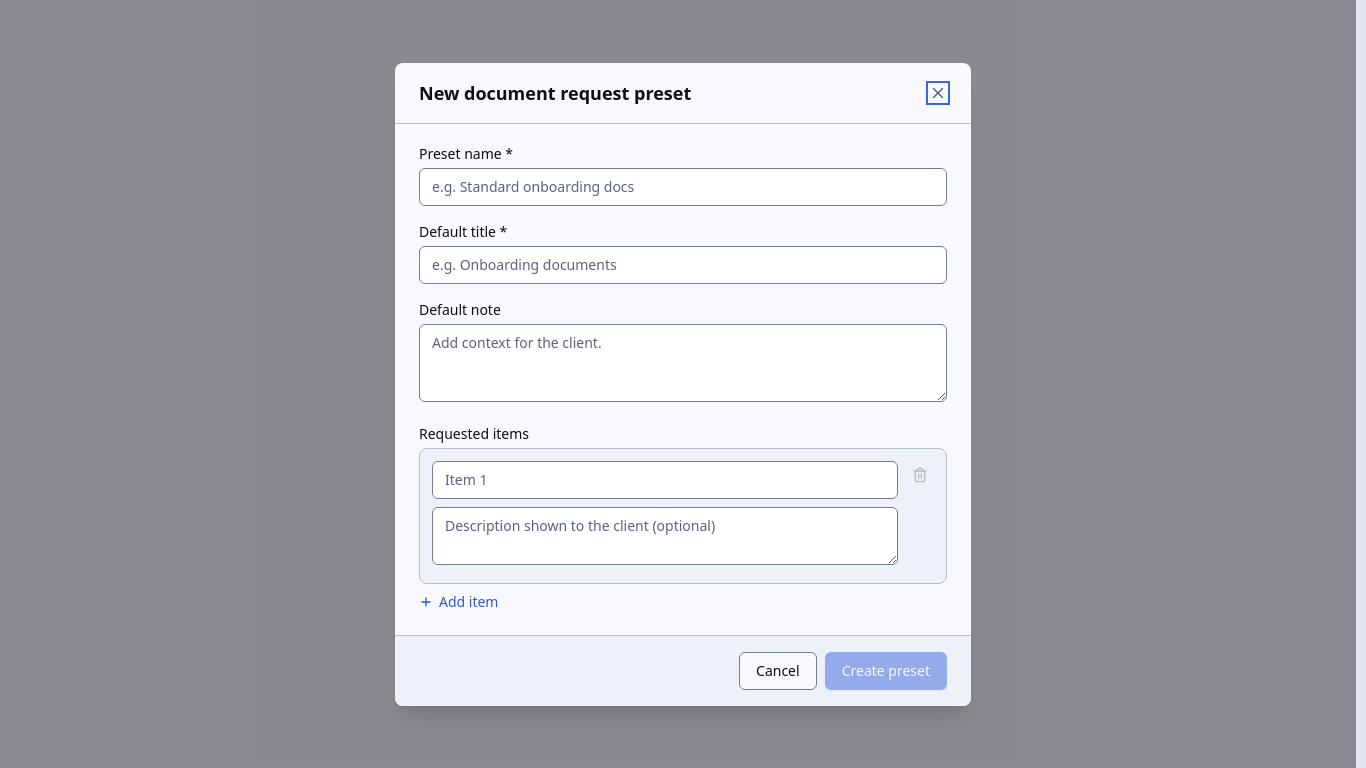
Test: lets the user dismiss the error from a refused save
The image size is (1366, 768).
In the field labelled "Preset name *": (683, 186) [419,168,947,206], type "Onboarding"
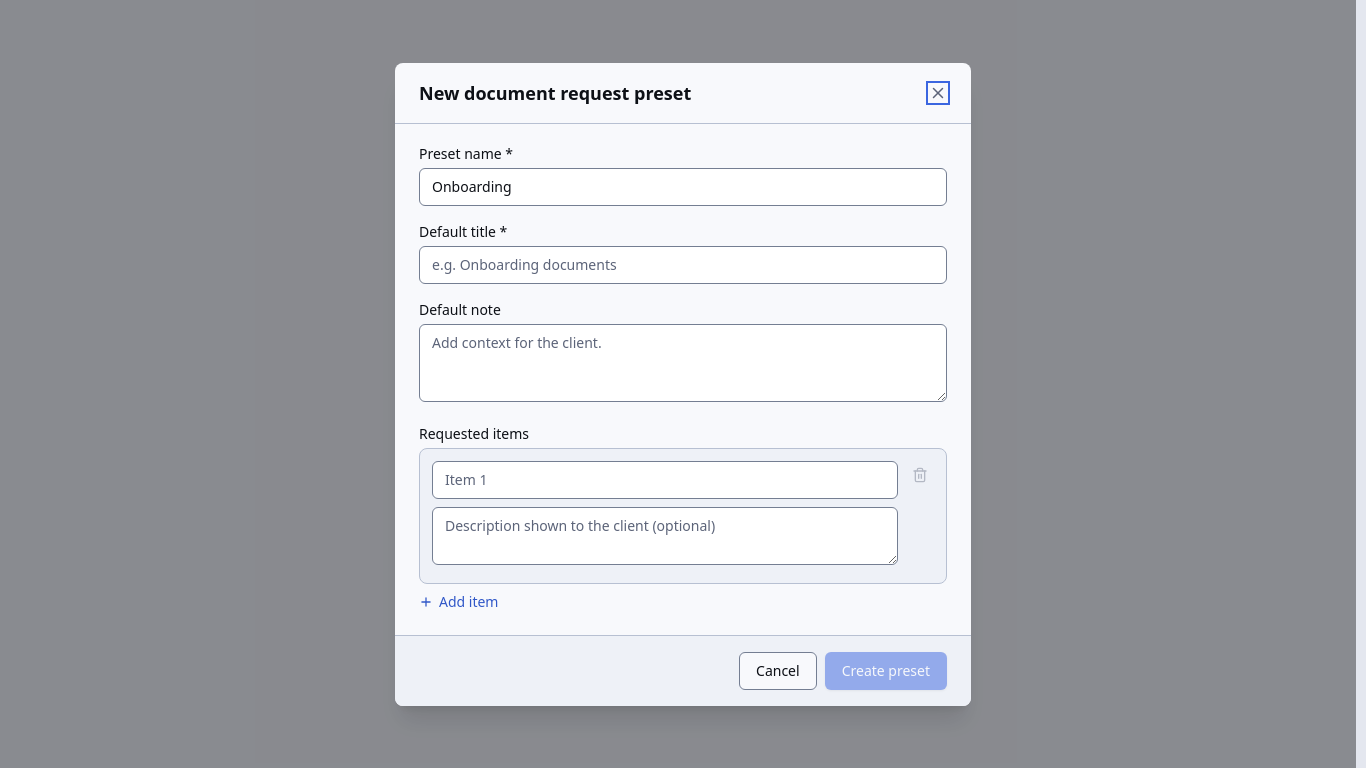
In the field labelled "Default title *": (683, 264) [419,246,947,284], type "Onboarding documents"
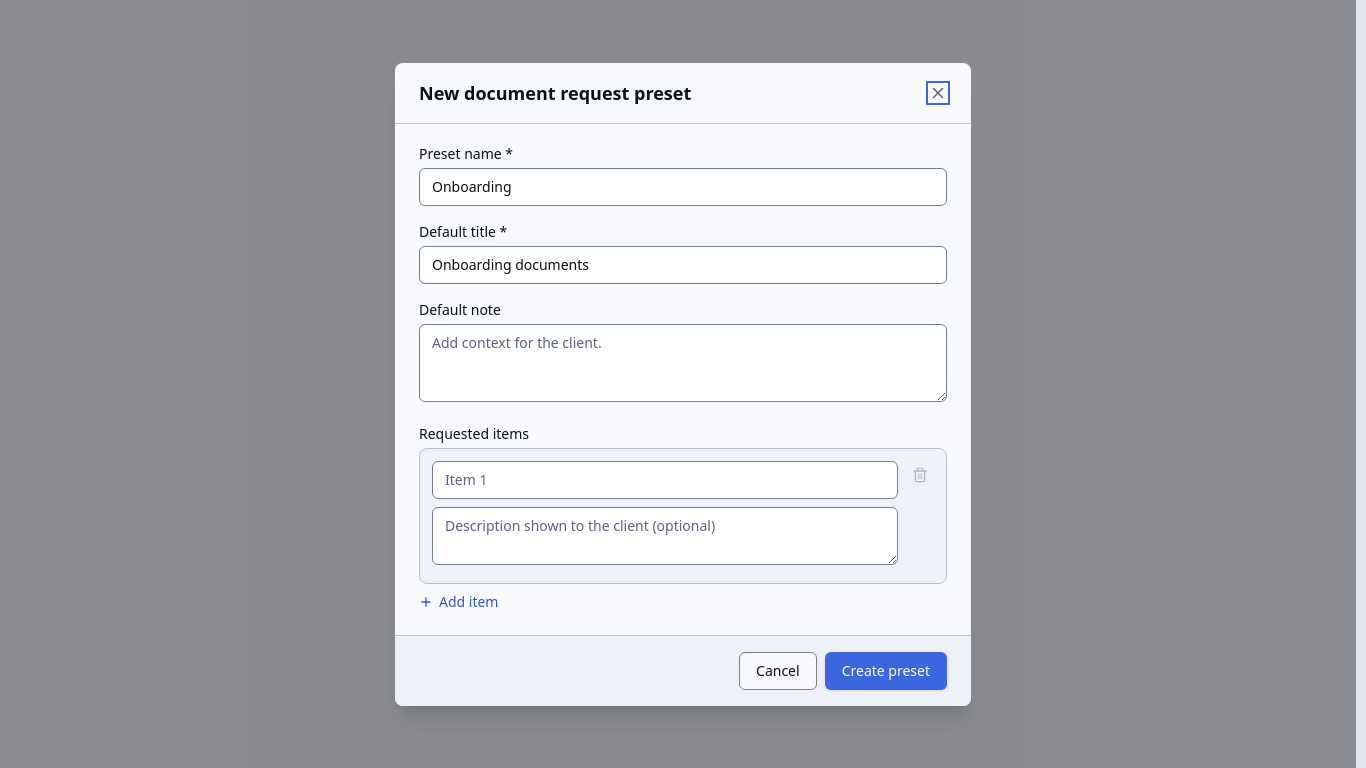
Click the button "Create preset": (886, 670) [825,652,947,690]
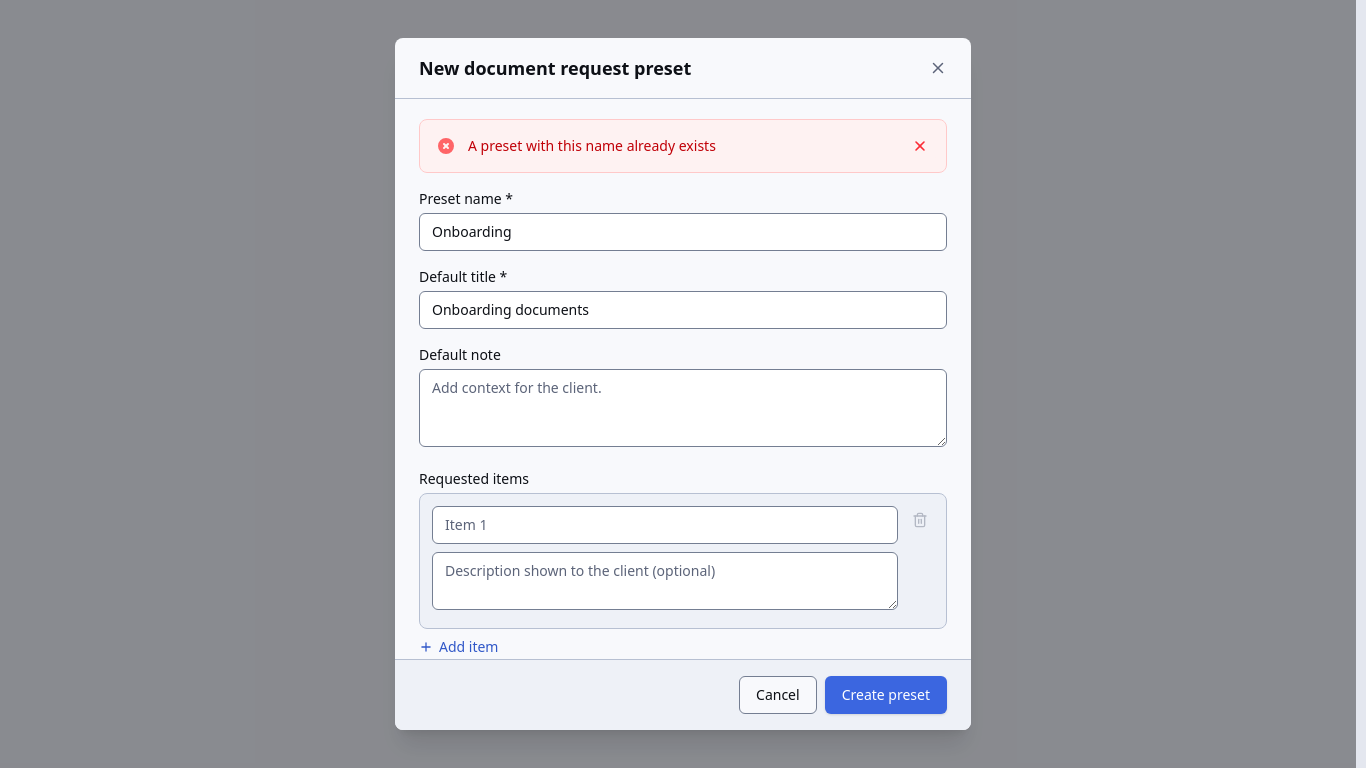
Expected: the message reads "A preset with this name already exists", [468,136,716,155]
The banner's own close button, not the dialog's.
Click the button named "Close" in the row of "A preset with this name already exists": (920, 146) [904,130,936,162]
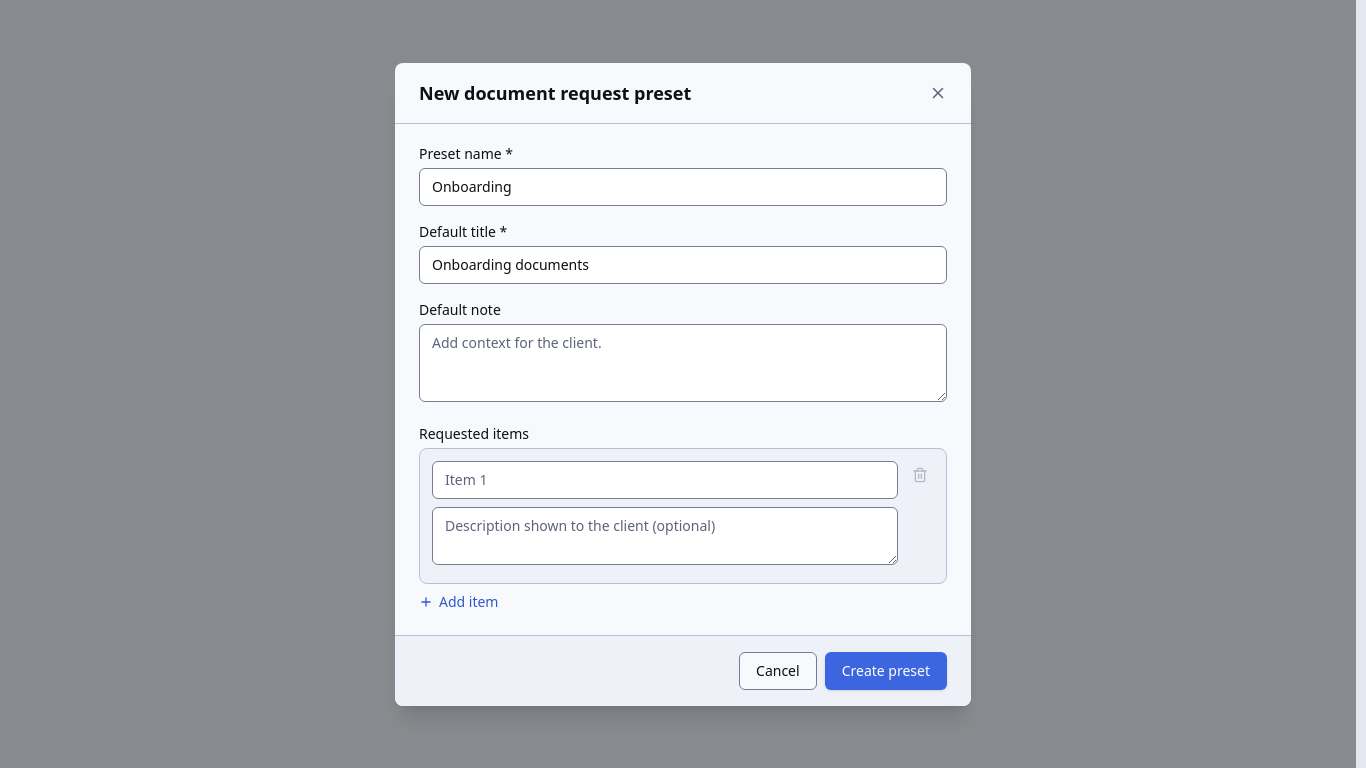
Expected: the message "A preset with this name already exists" is gone
